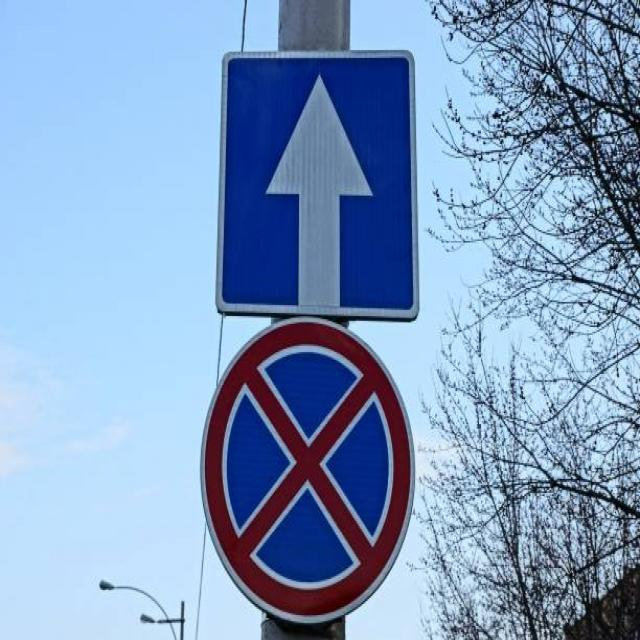no_parking: (192, 321, 428, 627)
